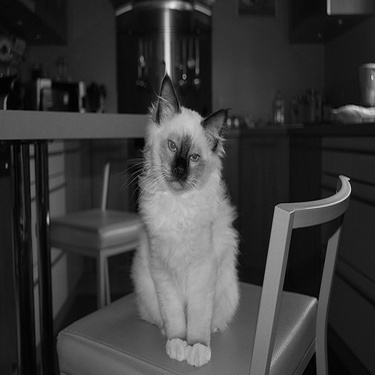cat: (120, 71, 238, 365)
